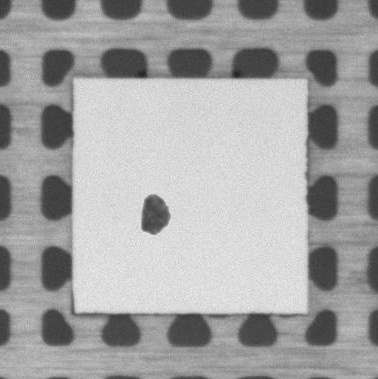DIE_INK: (138, 192, 173, 238)
